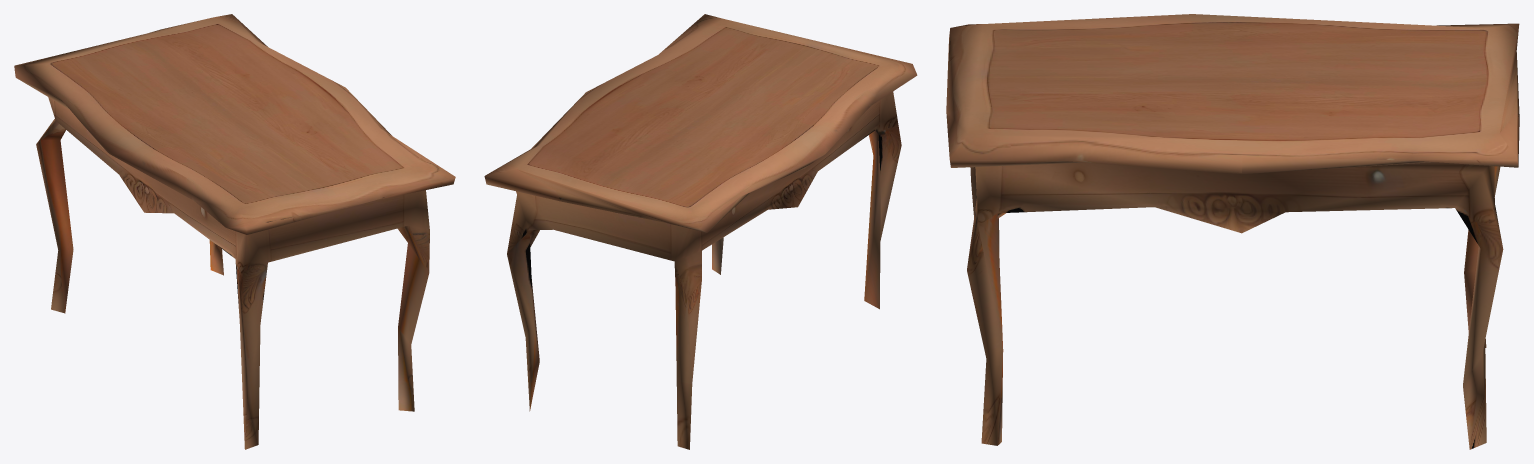
File: Master Room table.fbx
The picture shows the model from 3 angles, left to right: view 1: azimuth 30°, elevation 25°; view 2: azimuth 150°, elevation 25°; view 3: azimuth 270°, elevation 25°; orthographic projection. The views are drawn at different scales.
Parts seen in each view (by area): view 1: Master Room table; view 2: Master Room table; view 3: Master Room table.
Part boxes in pixels (x1,y1,x2,y2): Master Room table: [14, 14, 455, 449]; Master Room table: [484, 14, 917, 449]; Master Room table: [946, 14, 1519, 449].
Size of the model in its own units: 57.53 by 56.34 by 92.18.
Materials: 1 (1 with a texture image).
